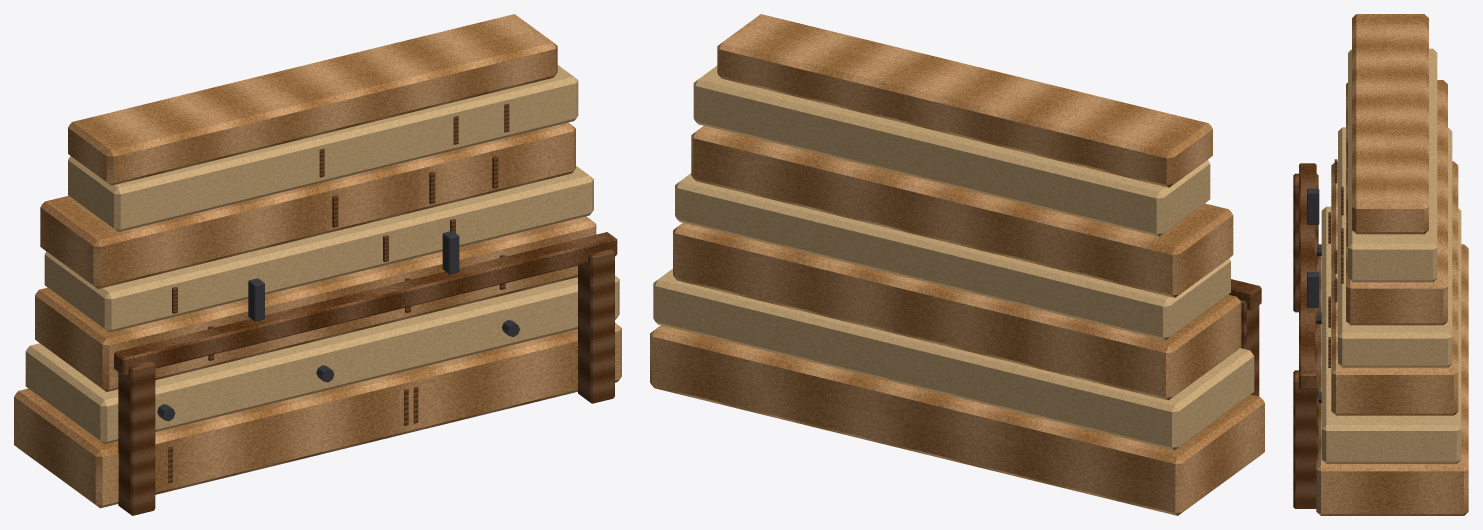
File: strata_wall.glb
The picture shows the model from 3 angles, left to right: view 1: azimuth 30°, elevation 25°; view 2: azimuth 150°, elevation 25°; view 3: azimuth 270°, elevation 25°; orthographic projection. The views are drawn at different scales.
Visible parts, largest first — view 1: strata_wall_Sandstone, strata_wall_CutStone, strata_wall_Timber, strata_wall_Iron; view 2: strata_wall_Sandstone, strata_wall_CutStone, strata_wall_Timber; view 3: strata_wall_Sandstone, strata_wall_CutStone, strata_wall_Timber, strata_wall_Iron.
Boxes of the visible parts, x1=… form: strata_wall_Sandstone: x1=14, y1=14, x2=621, y2=508; strata_wall_CutStone: x1=25, y1=65, x2=619, y2=444; strata_wall_Timber: x1=114, y1=103, x2=617, y2=515; strata_wall_Iron: x1=157, y1=231, x2=519, y2=420; strata_wall_Sandstone: x1=650, y1=14, x2=1264, y2=515; strata_wall_CutStone: x1=653, y1=66, x2=1254, y2=450; strata_wall_Timber: x1=1228, y1=279, x2=1261, y2=396; strata_wall_Sandstone: x1=1316, y1=14, x2=1468, y2=515; strata_wall_CutStone: x1=1321, y1=48, x2=1461, y2=463; strata_wall_Timber: x1=1293, y1=141, x2=1347, y2=508; strata_wall_Iron: x1=1307, y1=188, x2=1321, y2=403.
Size of the model in its own units: 5.96 by 3.64 by 1.96.
4 materials, 4 textured.
